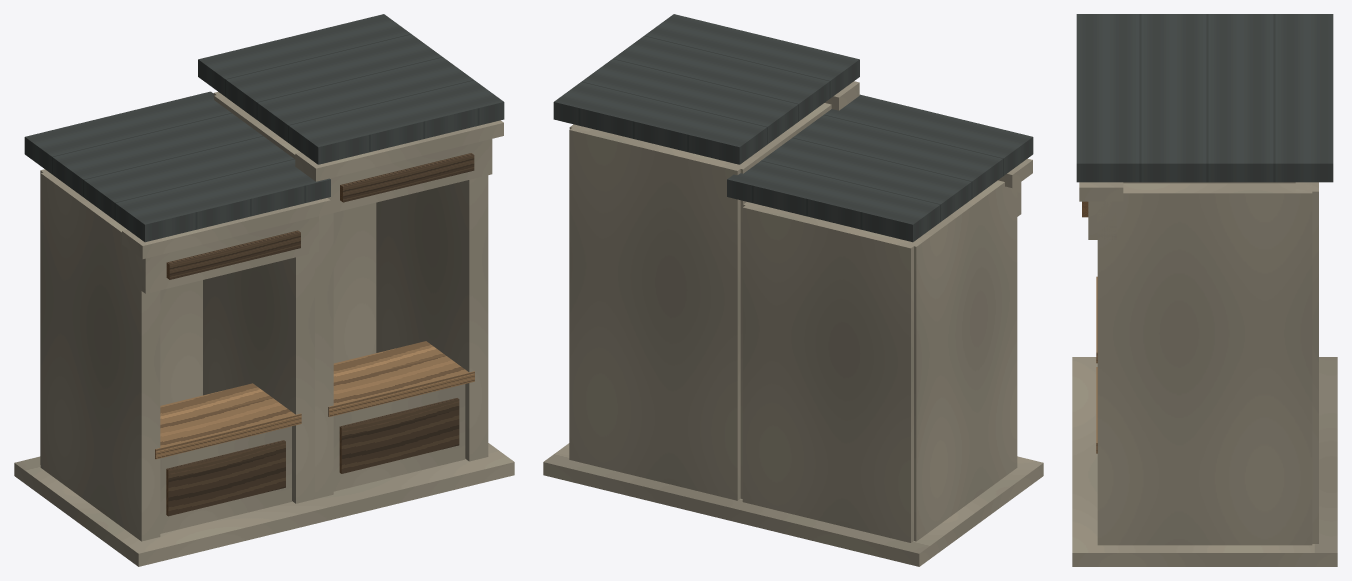
The picture shows the model from 3 angles, left to right: view 1: azimuth 30°, elevation 25°; view 2: azimuth 150°, elevation 25°; view 3: azimuth 270°, elevation 25°; orthographic projection. The views are drawn at different scales.
Visible parts, largest first — view 1: cairo; view 2: cairo; view 3: cairo.
Part boxes in pixels (bbox=[...]): cairo: bbox=[14, 14, 514, 566]; cairo: bbox=[543, 14, 1043, 566]; cairo: bbox=[1072, 14, 1337, 566].
Size of the model in its own units: 2.63 by 2.5 by 1.51.
Materials: 1 (1 with a texture image).
